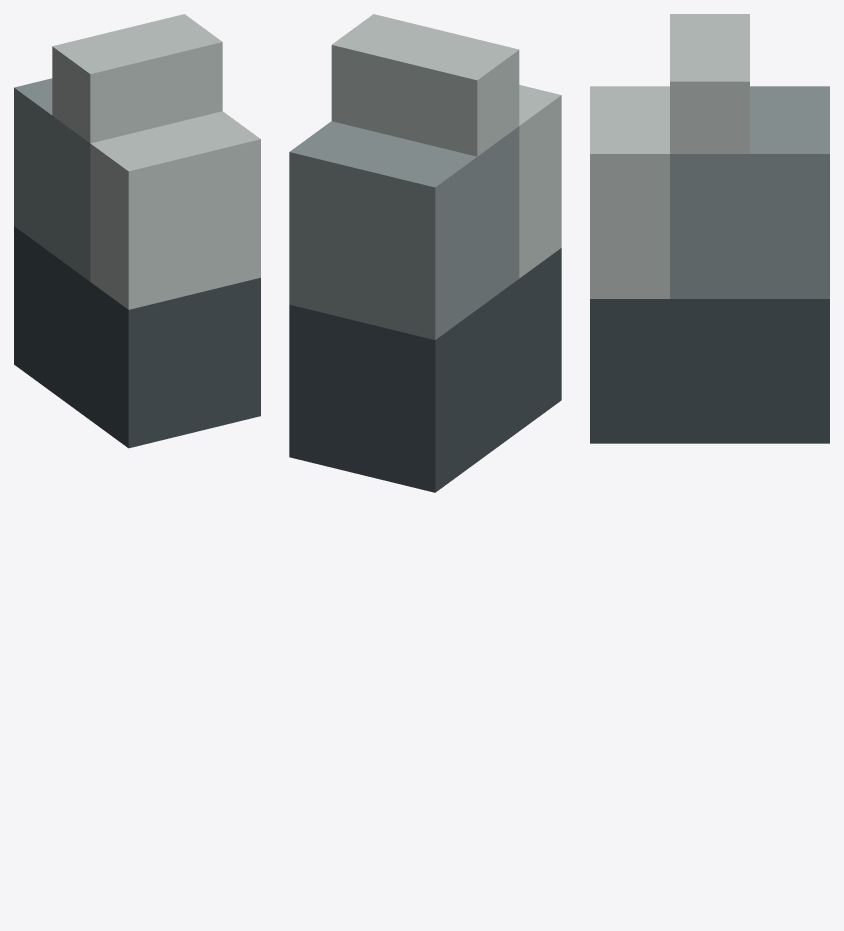
The model's file is enforcer_machin_hair.glb.
The picture shows the model from 3 angles, left to right: view 1: azimuth 30°, elevation 25°; view 2: azimuth 150°, elevation 25°; view 3: azimuth 270°, elevation 25°; orthographic projection. The views are drawn at different scales.
Visible parts, largest first — view 1: enforcer_machin_Hair.001; view 2: enforcer_machin_Hair.001; view 3: enforcer_machin_Hair.001.
Boxes of the visible parts, <box> form: enforcer_machin_Hair.001: <box>14,14,260,448</box>; enforcer_machin_Hair.001: <box>289,14,561,492</box>; enforcer_machin_Hair.001: <box>590,14,829,443</box>.
Size of the model in its own units: 0.08 by 0.48 by 0.12.
Materials: 4 (4 with a texture image).
